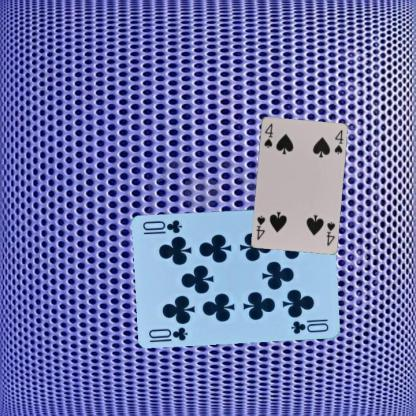10c: (146, 324, 190, 342)
4s: (261, 121, 275, 149), (324, 218, 336, 247)
